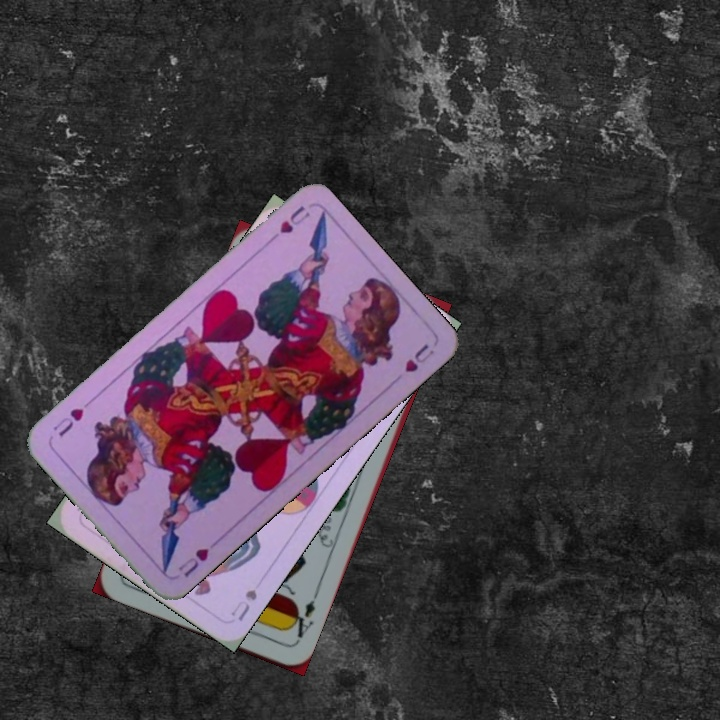EA: (283, 589, 321, 645)
HU: (263, 201, 313, 247), (174, 544, 211, 581)
SU: (227, 584, 260, 624)
